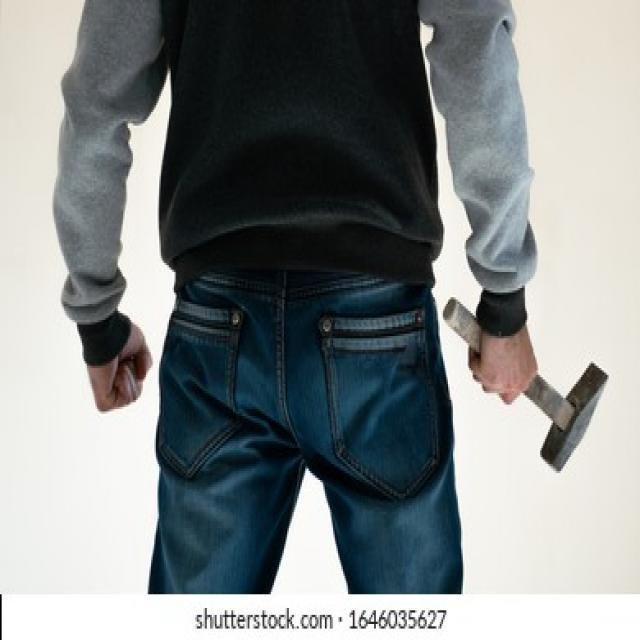hammer: (438, 278, 612, 482)
